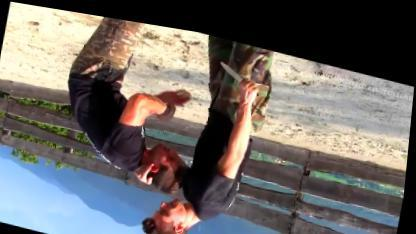knife: (212, 48, 265, 90)
